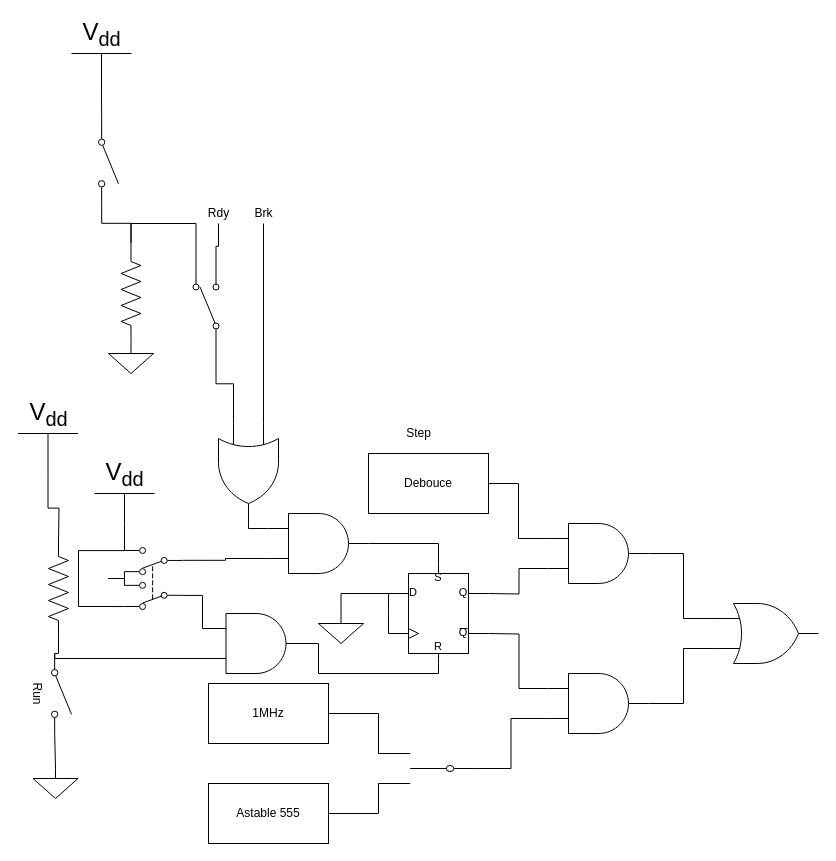
This 836x861 diagram has some shape labels left out. The centre of each missing label's shape, as x and y in pixels:
"Break" goes at pixel 108 162.
"IB" goes at pixel 205 306.
"Rst" goes at pixel 58 588.
